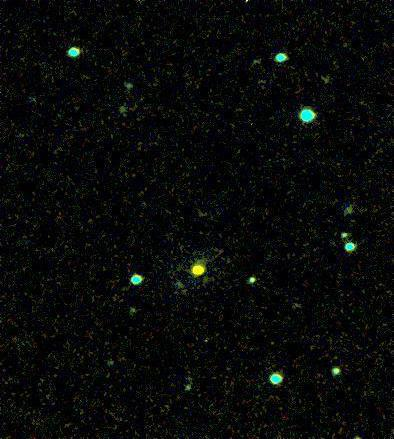star: (185, 250, 215, 280)
